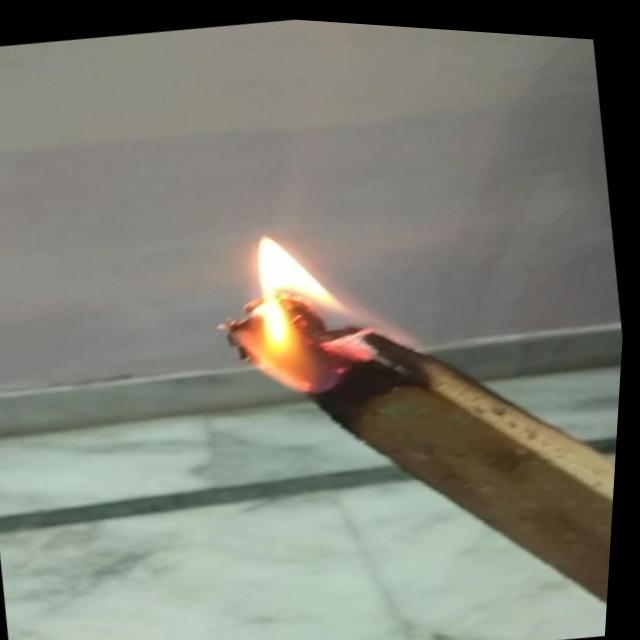fire: (176, 194, 429, 415)
